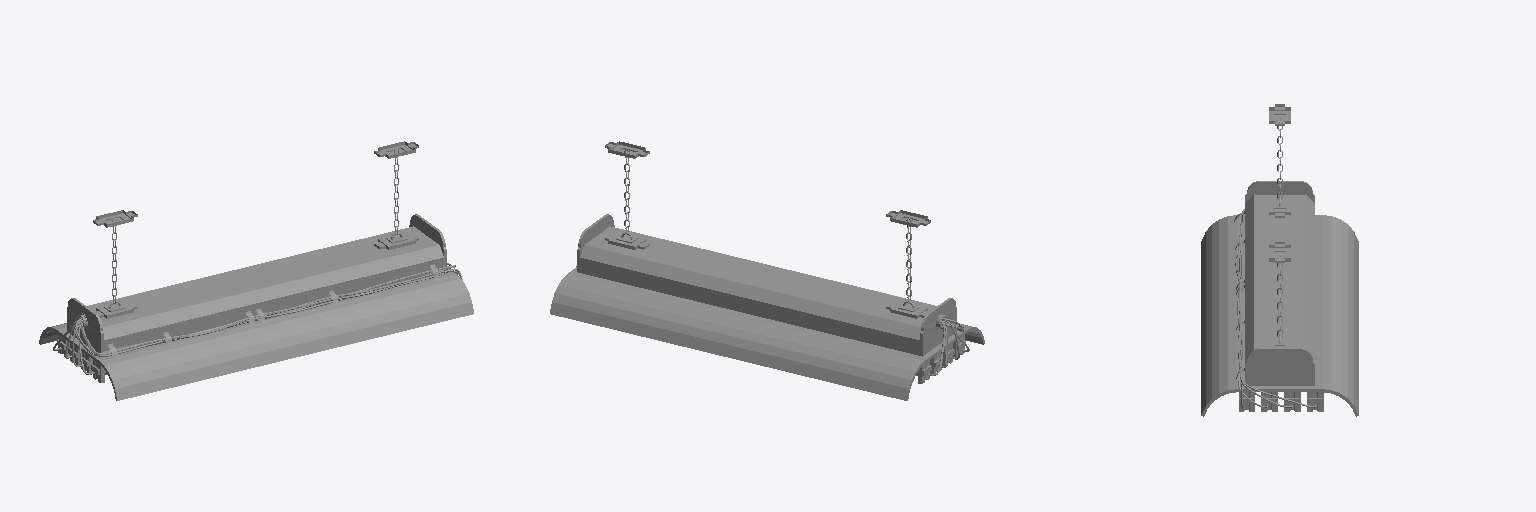
The model's file is HangingLight_triangles.obj.
3 renders of one model, left to right at view 1: azimuth 30°, elevation 25°; view 2: azimuth 150°, elevation 25°; view 3: azimuth 270°, elevation 25°, orthographic.
Visible parts, largest first — view 1: Plane.196_Plane.283; view 2: Plane.196_Plane.283; view 3: Plane.196_Plane.283.
Boxes of the visible parts, x1=… form: Plane.196_Plane.283: x1=39, y1=141, x2=473, y2=400; Plane.196_Plane.283: x1=550, y1=141, x2=984, y2=400; Plane.196_Plane.283: x1=1201, y1=104, x2=1358, y2=416.
Bounding box in the file's own units: 0.1183 × 0.0441 × 0.0431.